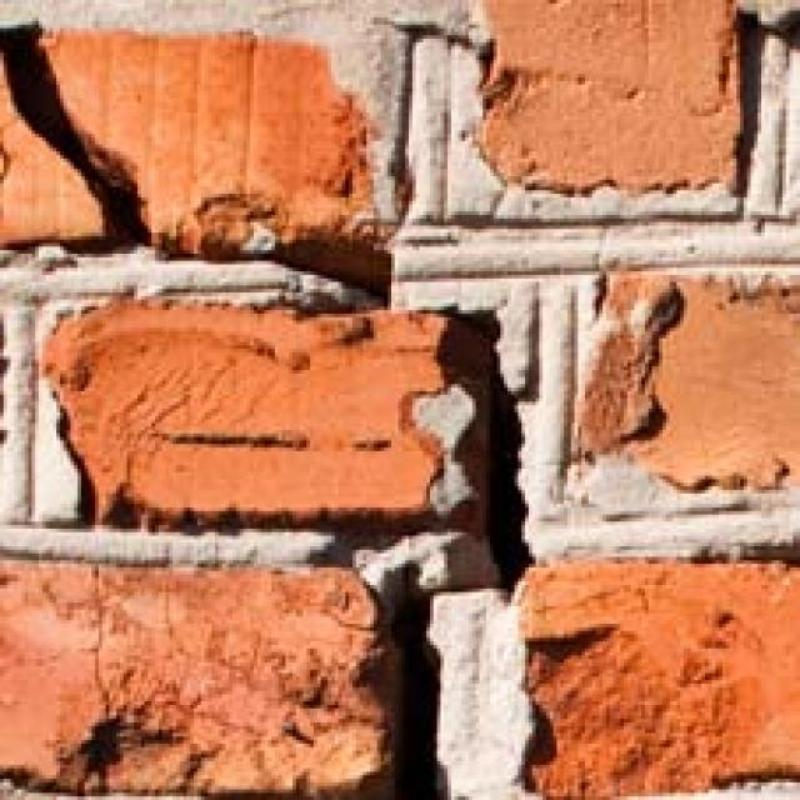crack: (0, 24, 150, 243), (438, 309, 530, 588), (389, 589, 441, 799), (272, 238, 391, 304)
